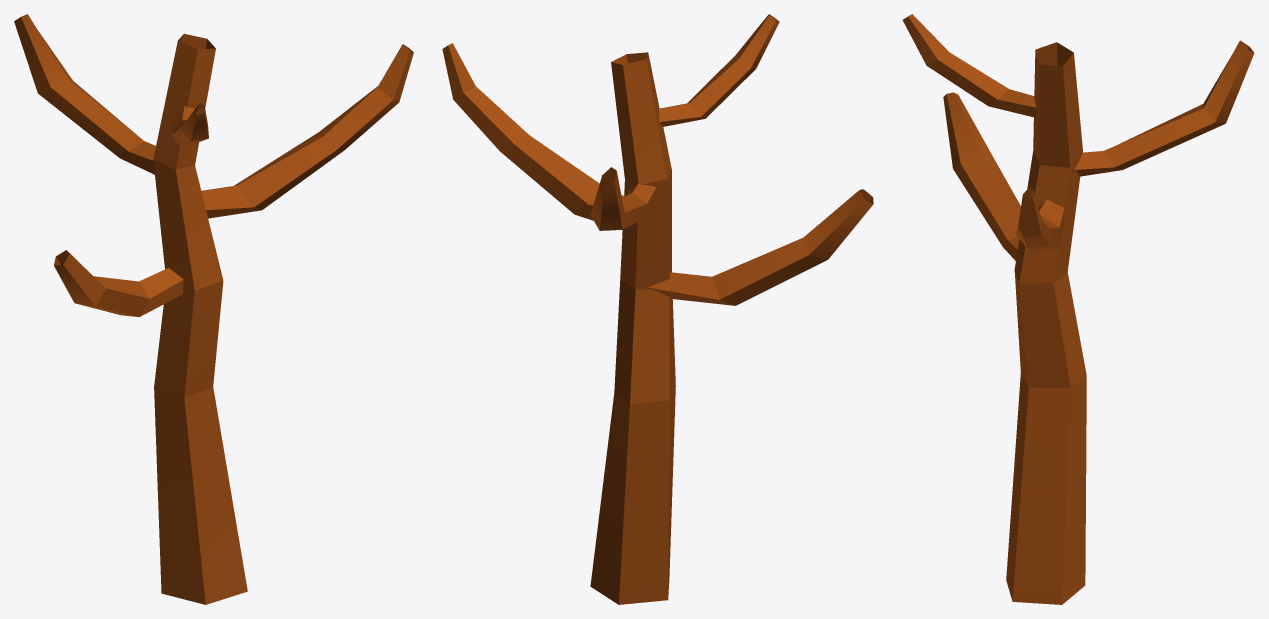
The model's file is TreeTrunk_02.fbx.
3 renders of one model, left to right at view 1: azimuth 30°, elevation 25°; view 2: azimuth 150°, elevation 25°; view 3: azimuth 270°, elevation 25°, orthographic.
Visible parts, largest first — view 1: TreeTrunk_02; view 2: TreeTrunk_02; view 3: TreeTrunk_02.
Part boxes in pixels (box(x1,y1,x2,y2)): TreeTrunk_02: box(14, 14, 413, 604); TreeTrunk_02: box(442, 14, 873, 604); TreeTrunk_02: box(902, 14, 1254, 604).
Bounding box in the file's own units: 179 × 237 × 140.
